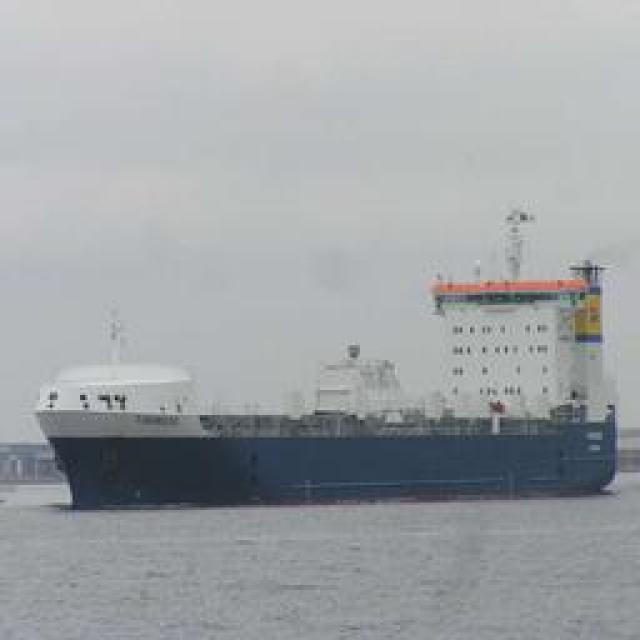CIV_Ship: (32, 318, 632, 512)
